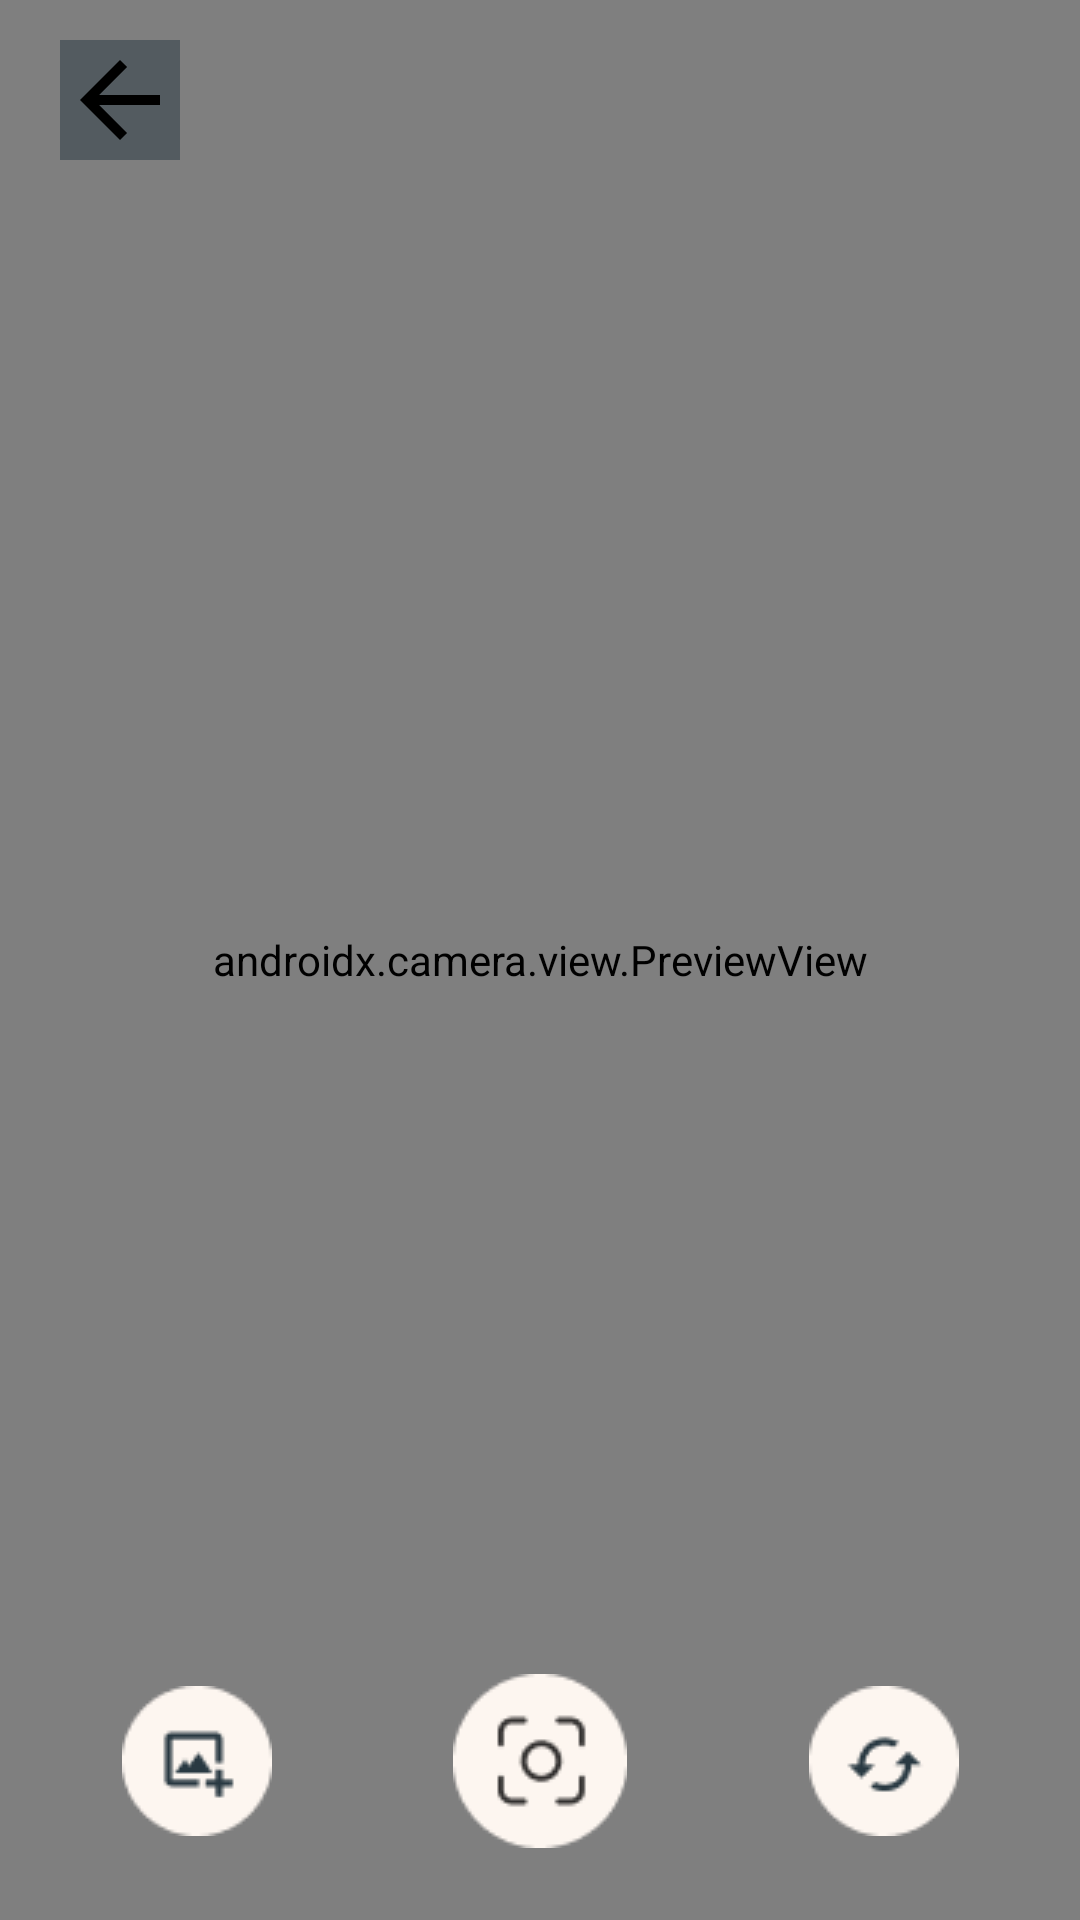

Where icons sit on this 1080px x 1920px app screen, as {"x1": x1, "y1": y1, "x2": x2, "y2": y2}:
arrow back: {"x1": 60, "y1": 40, "x2": 180, "y2": 160}
gallery: {"x1": 122, "y1": 1686, "x2": 272, "y2": 1836}
switch: {"x1": 809, "y1": 1686, "x2": 959, "y2": 1836}
take photo: {"x1": 453, "y1": 1674, "x2": 627, "y2": 1848}
